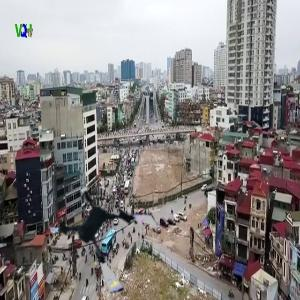drone: (52, 185, 161, 294)
